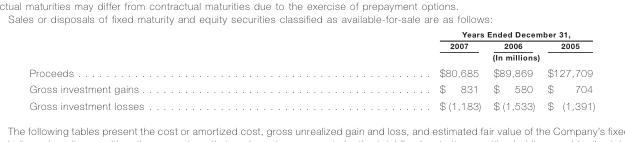table: (28, 29, 594, 110)
table column: (28, 29, 291, 110), (291, 29, 486, 110), (486, 29, 540, 110), (540, 29, 594, 110)
table column header: (28, 29, 594, 63)
table row: (28, 63, 594, 80), (28, 80, 594, 96), (28, 96, 594, 110), (28, 50, 594, 63), (28, 39, 594, 50), (28, 29, 594, 39)
table spanning cell: (291, 50, 594, 63), (291, 29, 594, 39)
